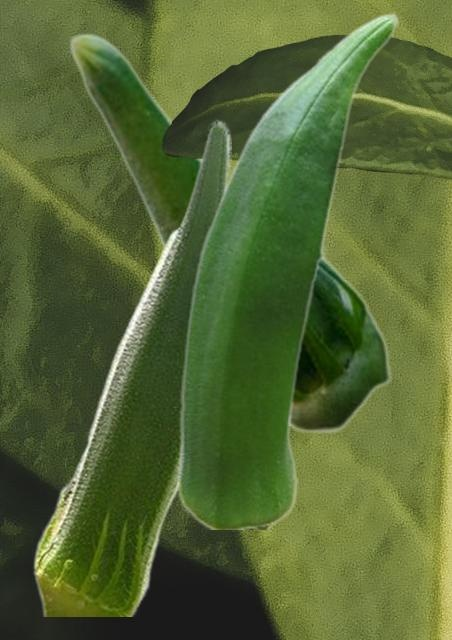okra: (68, 32, 391, 433), (175, 12, 398, 528), (32, 118, 230, 615)
